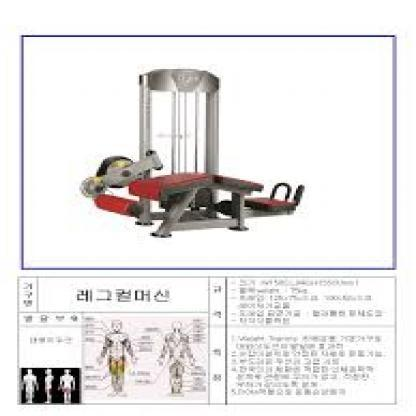reg curl machine: (78, 66, 310, 244)
